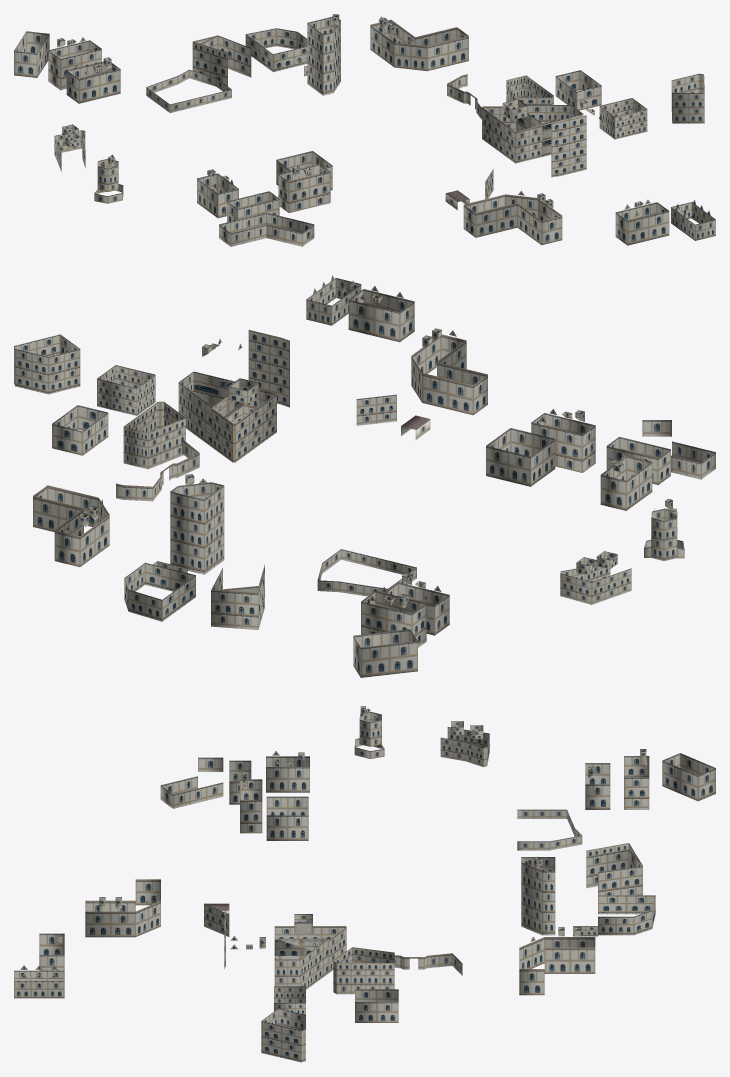
Rendered from FP_jog_island.md.047.obj.
3 renders of one model, top to bottom at view 1: azimuth 30°, elevation 25°; view 2: azimuth 150°, elevation 25°; view 3: azimuth 270°, elevation 25°, orthographic. The views are drawn at different scales.
Parts seen in each view (by area): view 1: FP_jog_island.mo.047; view 2: FP_jog_island.mo.047; view 3: FP_jog_island.mo.047.
Part boxes in pixels (x1=…): FP_jog_island.mo.047: x1=14, y1=14, x2=715, y2=246; FP_jog_island.mo.047: x1=14, y1=275, x2=715, y2=677; FP_jog_island.mo.047: x1=14, y1=706, x2=715, y2=1062.
Size of the model in its own units: 27.72 by 3.18 by 27.78.
1 material, 1 textured.
